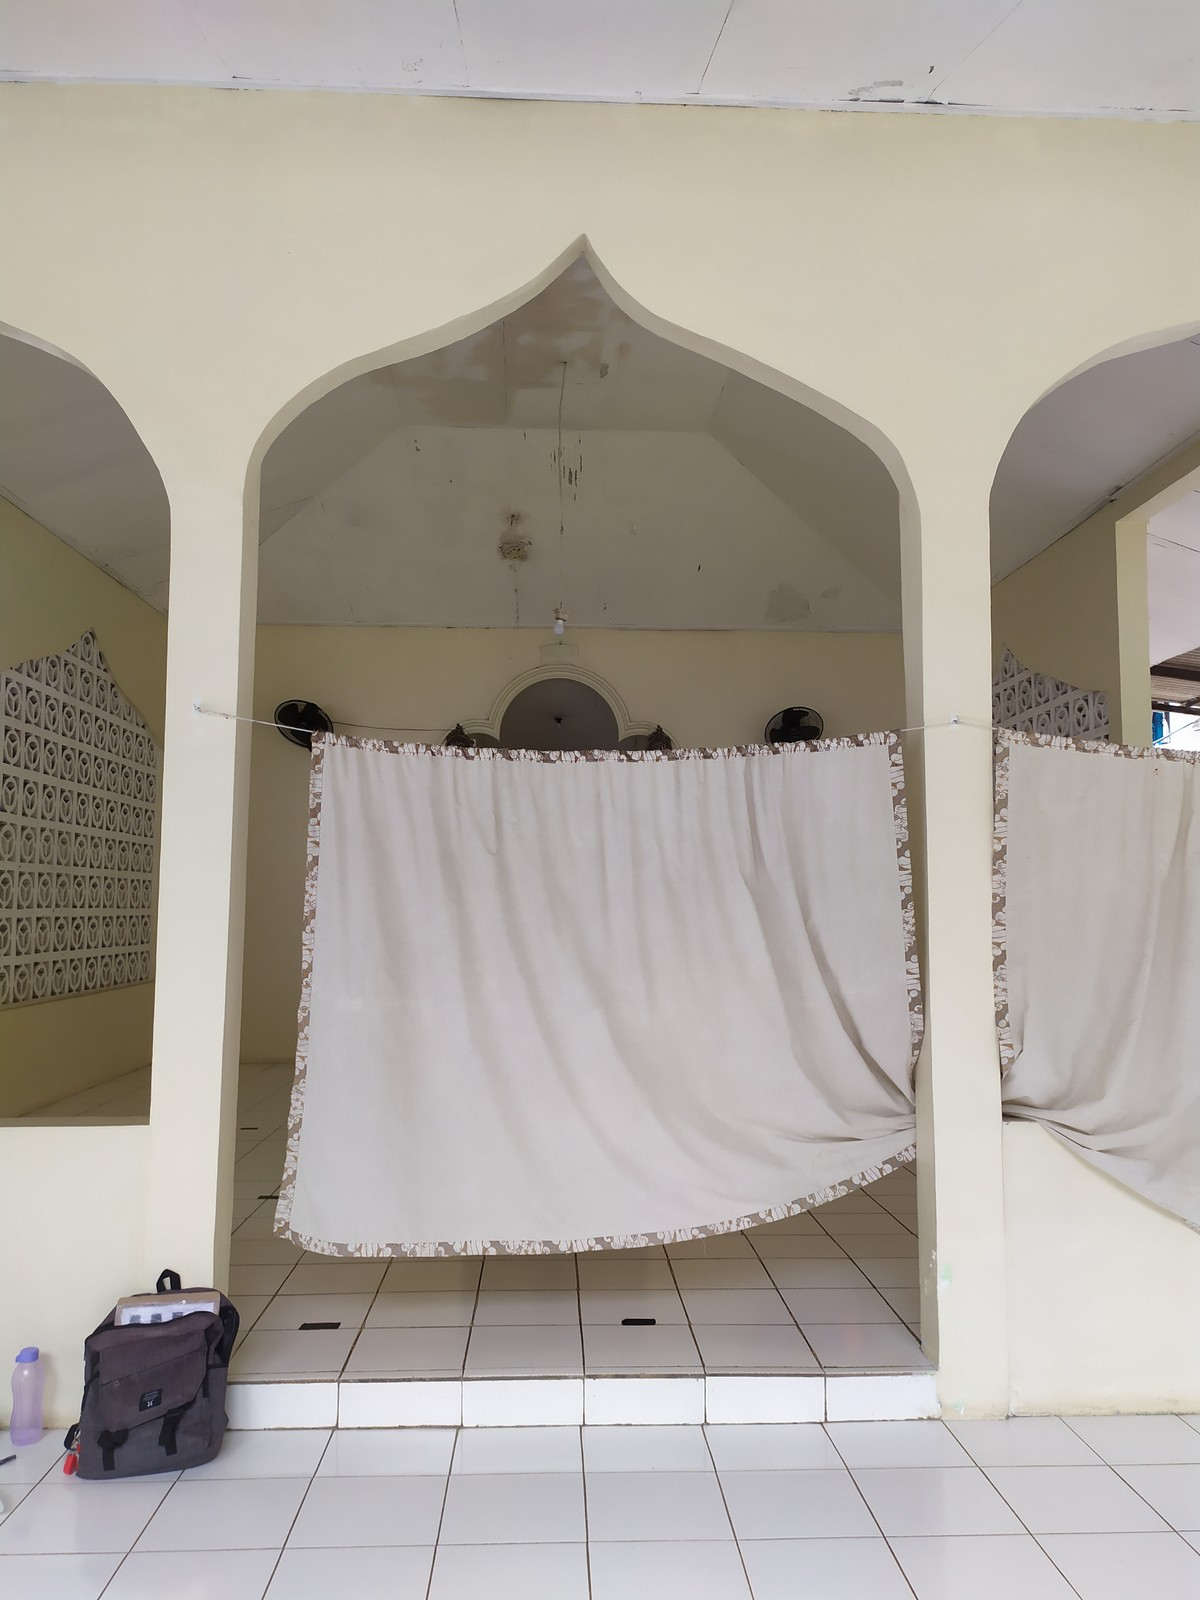concrete column: (887, 438, 1020, 1436), (139, 414, 258, 1353)
